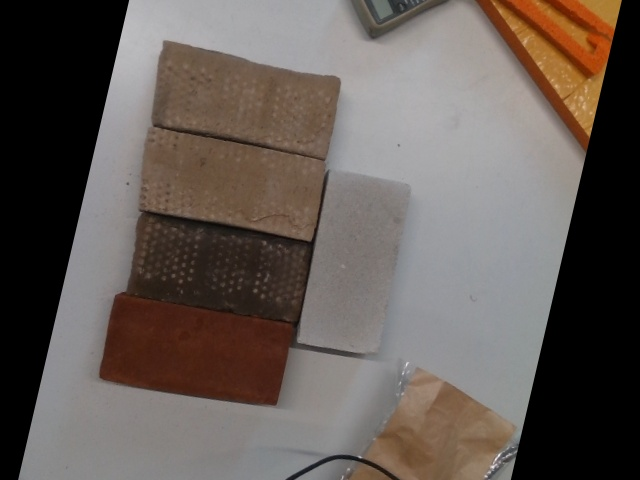brick: (100, 298, 293, 412), (127, 212, 311, 326), (298, 168, 408, 356), (138, 131, 325, 240), (152, 50, 339, 150)
